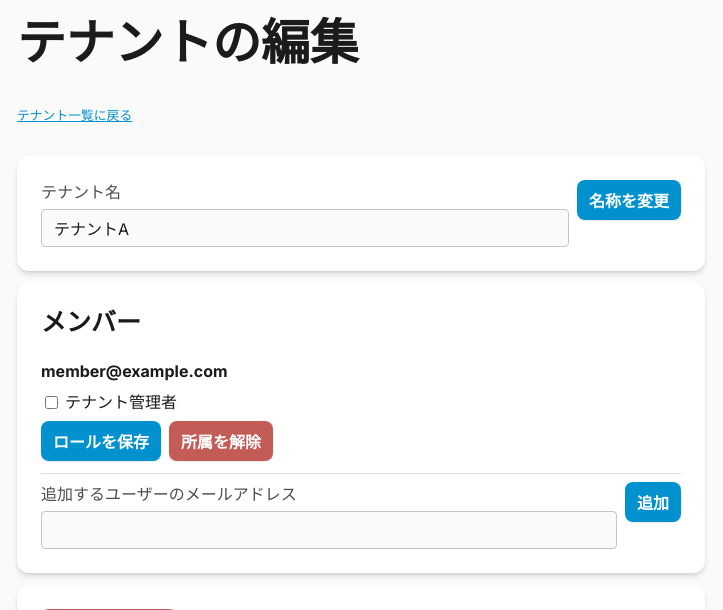
Scenario: admin tenant detail page › メールアドレスでメンバーを追加すると一覧に表示する
Type "new@example.com" into the field labelled "追加するユーザーのメールアドレス". click: (329, 530)
box: [41,512,617,550]
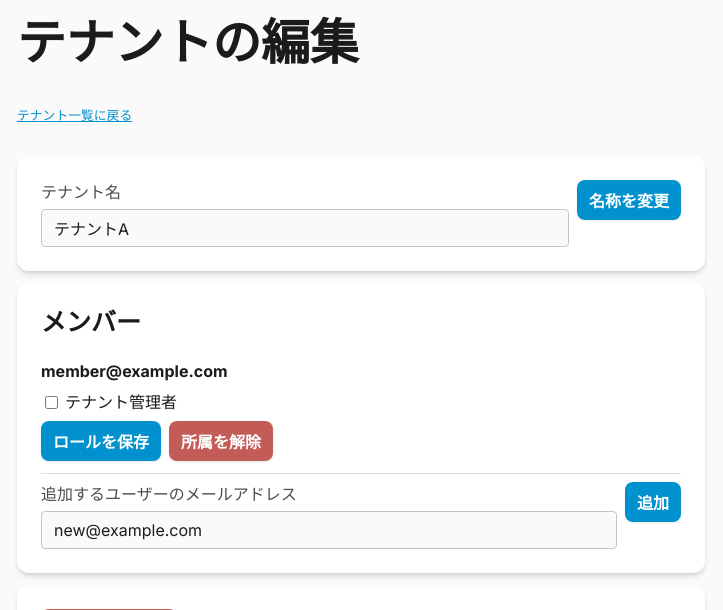
Click the button "追加". click: (653, 502)
box: [625,482,681,522]
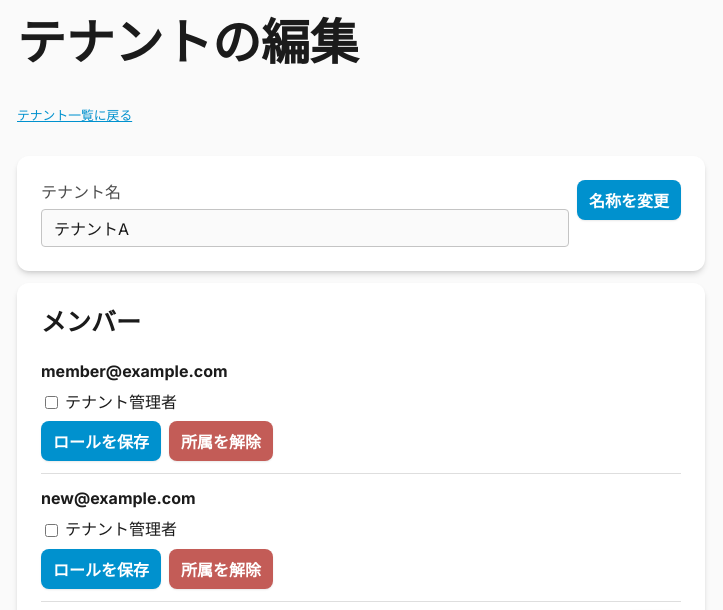
Expected: the text "new@example.com" is shown, [41,488,196,508]
